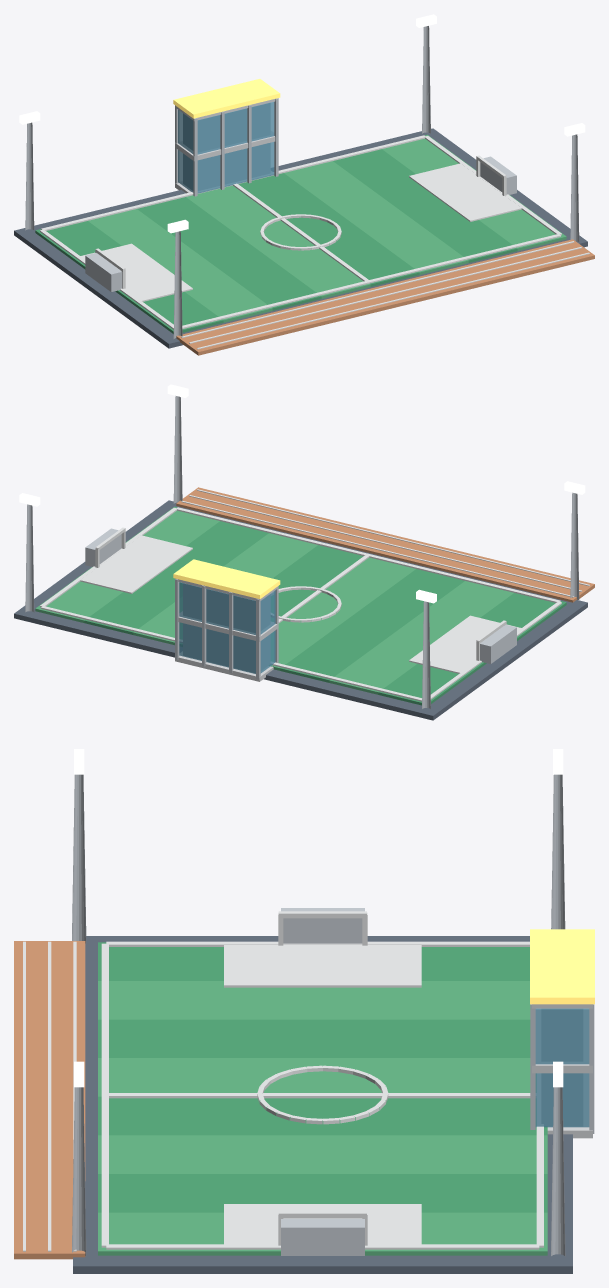
Rendered from first_team_pitch_beta.master.glb.
The picture shows the model from 3 angles, top to bottom: view 1: azimuth 30°, elevation 25°; view 2: azimuth 150°, elevation 25°; view 3: azimuth 270°, elevation 25°; orthographic projection. The views are drawn at different scales.
Parts seen in each view (by area): view 1: first_team_pitch_beta_master; view 2: first_team_pitch_beta_master; view 3: first_team_pitch_beta_master.
Part boxes in pixels (x1,y1,x2,y2): first_team_pitch_beta_master: (14, 14, 594, 355); first_team_pitch_beta_master: (14, 384, 594, 720); first_team_pitch_beta_master: (14, 749, 594, 1273).
Bounding box in the file's own units: 3.72 × 1.03 × 2.76.
